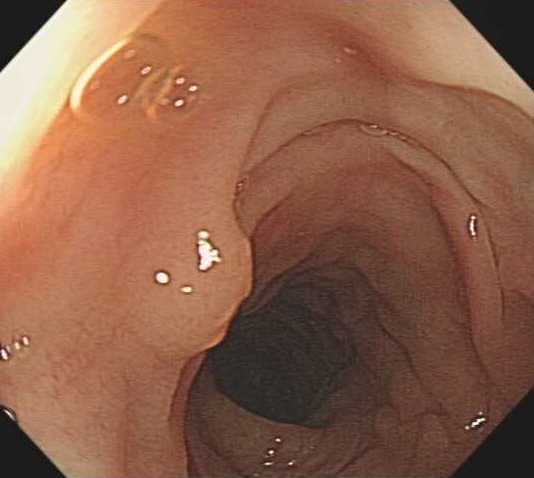adenoma: (122, 210, 256, 359)
